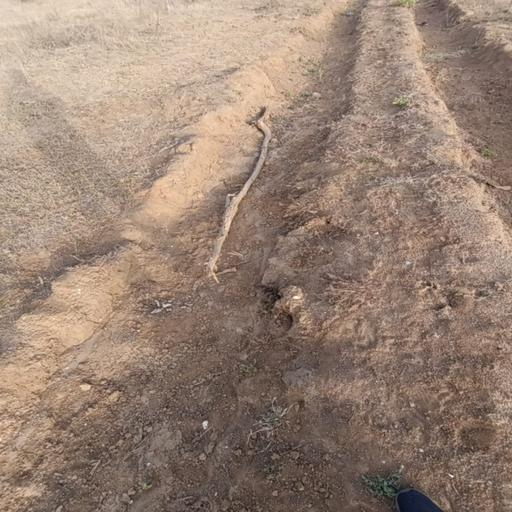vehicle_track: (0, 0, 370, 512), (414, 0, 512, 234)
